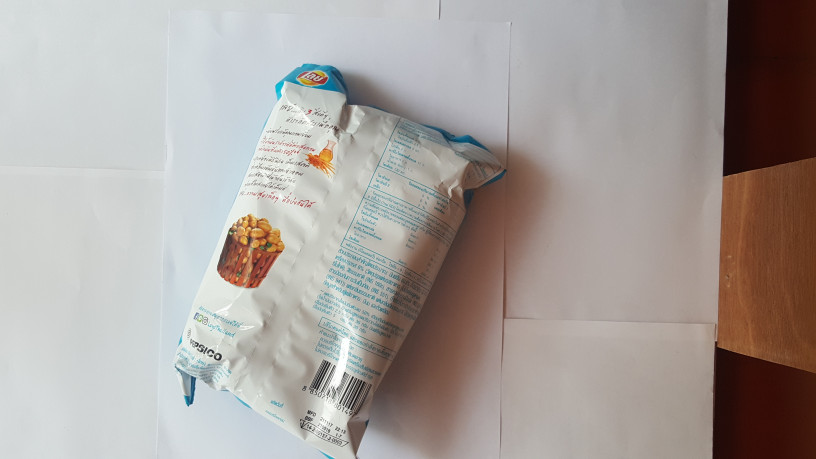lays-onion: (154, 57, 508, 459)
